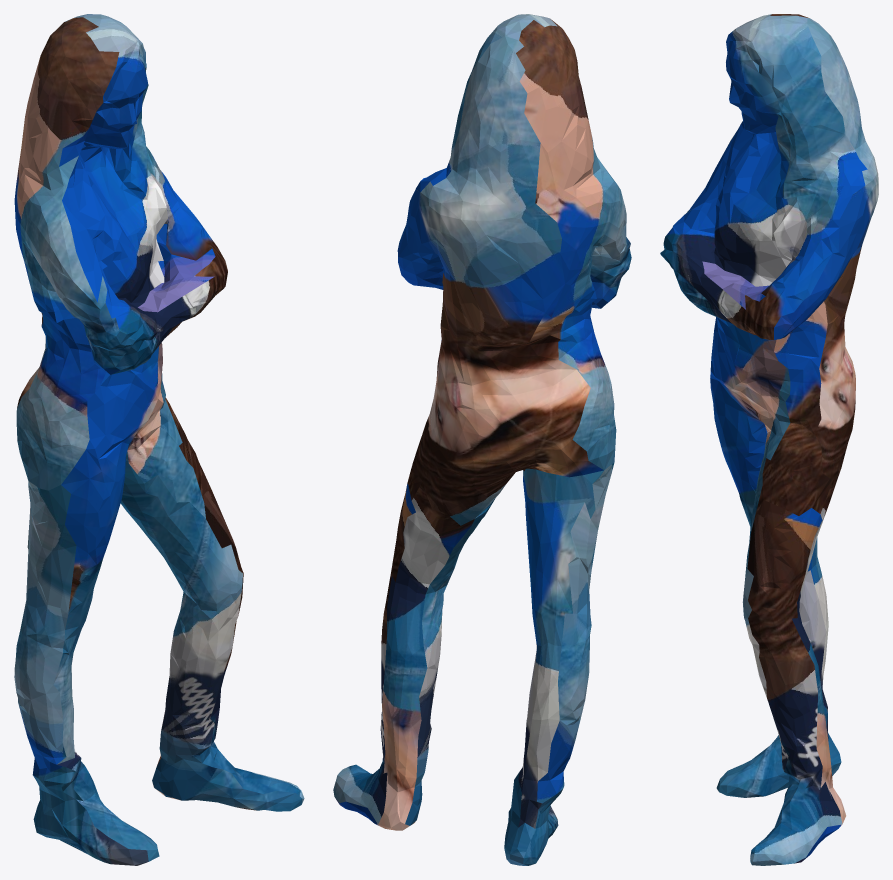
The model's file is girl_6.glb.
The picture shows the model from 3 angles, left to right: view 1: azimuth 30°, elevation 25°; view 2: azimuth 150°, elevation 25°; view 3: azimuth 270°, elevation 25°; orthographic projection. The views are drawn at different scales.
Parts seen in each view (by area): view 1: girl_6; view 2: girl_6; view 3: girl_6.
Part boxes in pixels (box(x1,y1,x2,y2)): girl_6: box(14, 14, 304, 865); girl_6: box(333, 14, 631, 865); girl_6: box(660, 14, 878, 865).
Bounding box in the file's own units: 0.5524 × 1.61 × 0.4134.
Materials: 1 (1 with a texture image).
